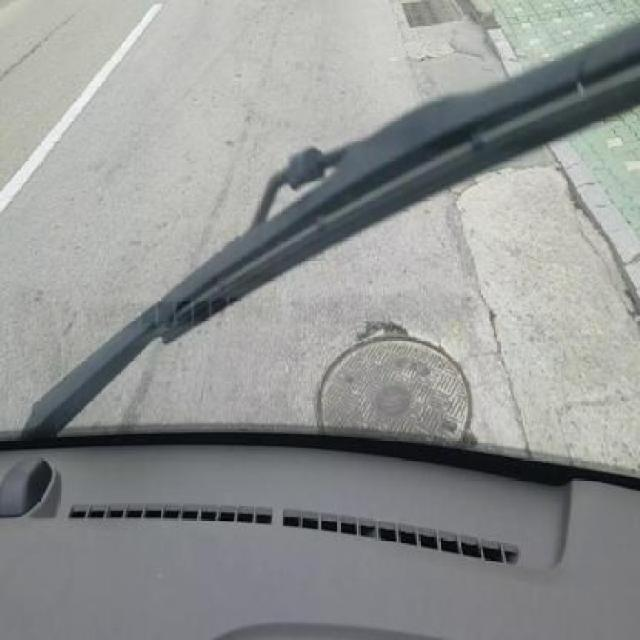Manhole: (314, 318, 478, 449), (399, 0, 464, 26)
Pothole: (351, 319, 418, 336)
